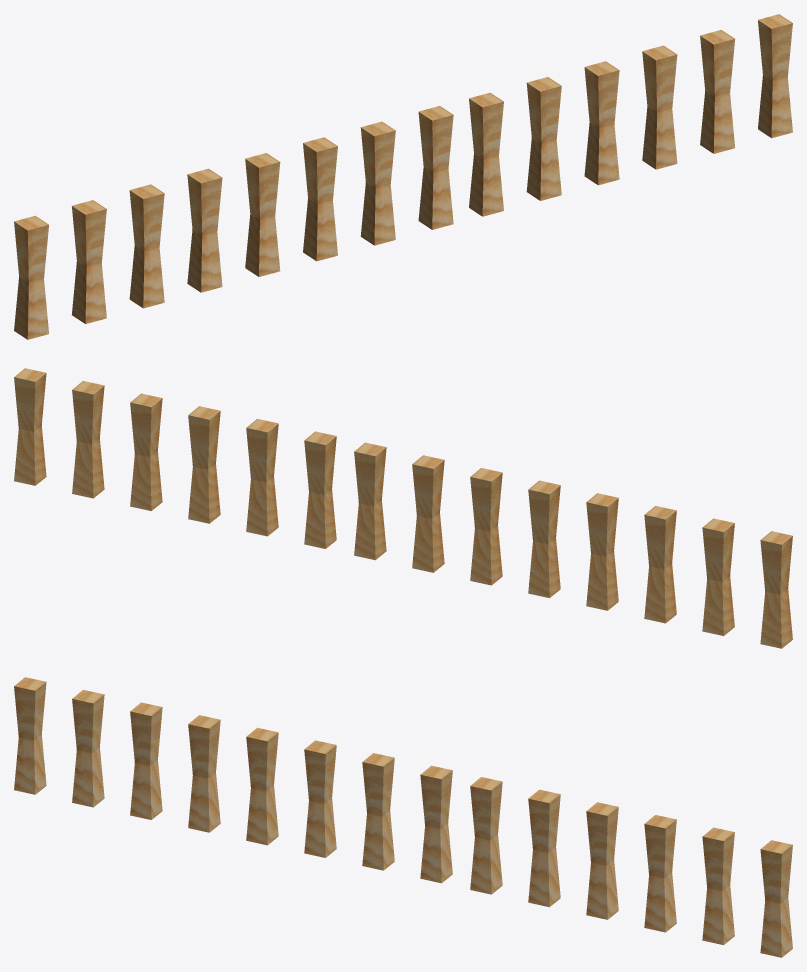
The model's file is cube.052_lev3.glb.
The picture shows the model from 3 angles, top to bottom: view 1: azimuth 30°, elevation 25°; view 2: azimuth 150°, elevation 25°; view 3: azimuth 330°, elevation 25°; orthographic projection. The views are drawn at different scales.
Parts seen in each view (by area): view 1: cube.052_lev3; view 2: cube.052_lev3; view 3: cube.052_lev3.
Part boxes in pixels (<box>): cube.052_lev3: <box>14,14,792,339</box>; cube.052_lev3: <box>14,368,792,648</box>; cube.052_lev3: <box>14,677,792,957</box>.
Size of the model in its own units: 1.44 by 0.1913 by 0.1077.
Materials: 1 (1 with a texture image).
